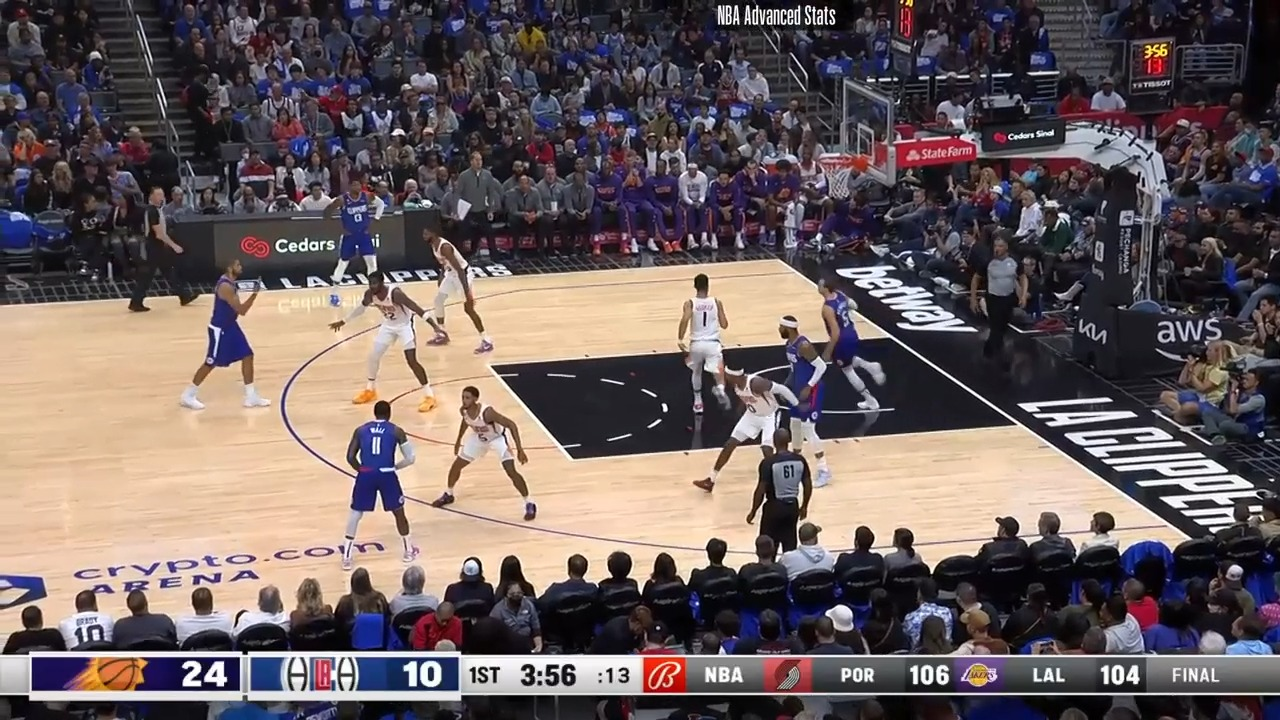net: (817, 151, 870, 201)
player: (331, 269, 441, 409), (696, 359, 804, 494), (345, 398, 428, 570), (436, 385, 534, 525), (188, 257, 274, 414), (778, 318, 838, 492), (811, 275, 882, 416), (320, 175, 388, 312), (423, 224, 493, 353), (677, 271, 736, 420)
referee: (744, 424, 811, 553), (131, 183, 190, 314), (971, 238, 1028, 361)
